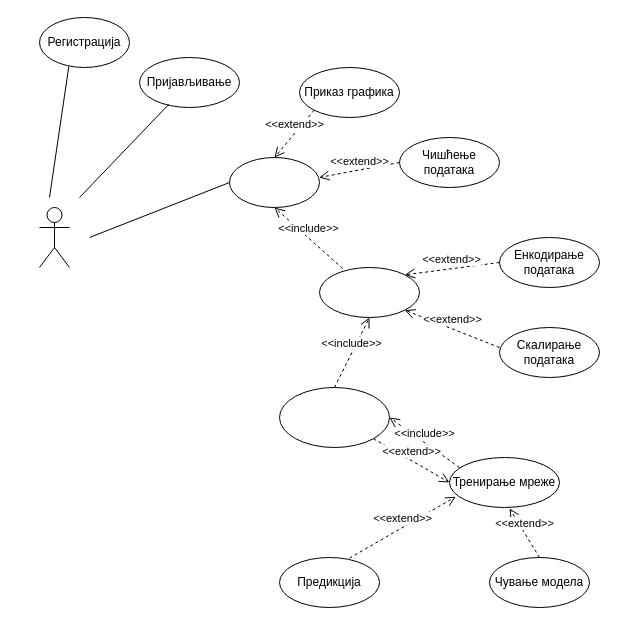
The diagram is 617 pixels wide and 625 high, and some of its shapes have lost their labels. The shapes that lost their labels are listed below. From the top down, each one's centre as x and y in pixels, then its label:
the point at 274,182: учитавање података
the point at 54,237: Непријављен корисник
the point at 369,292: Дефинисање улаза/излаза
the point at 334,417: Подешавање и креирање мреже
